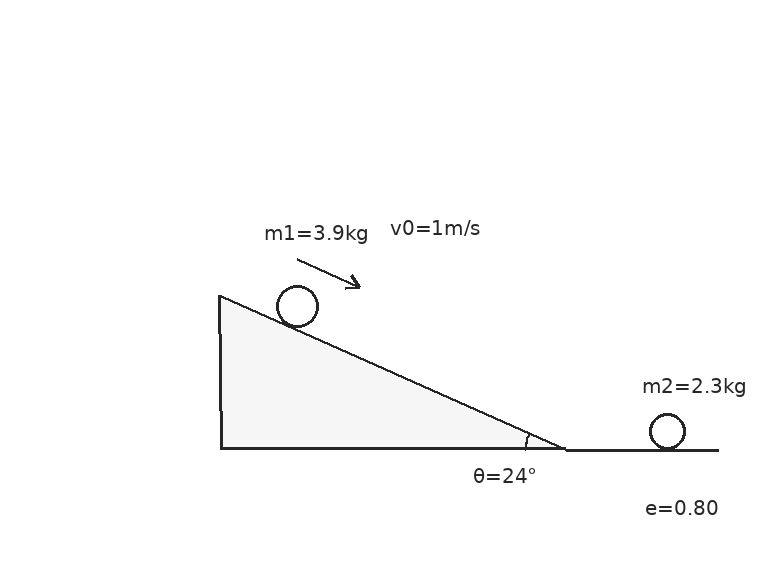ball: (274, 283, 320, 329), (647, 411, 687, 451)
ramp: (219, 293, 568, 451)
